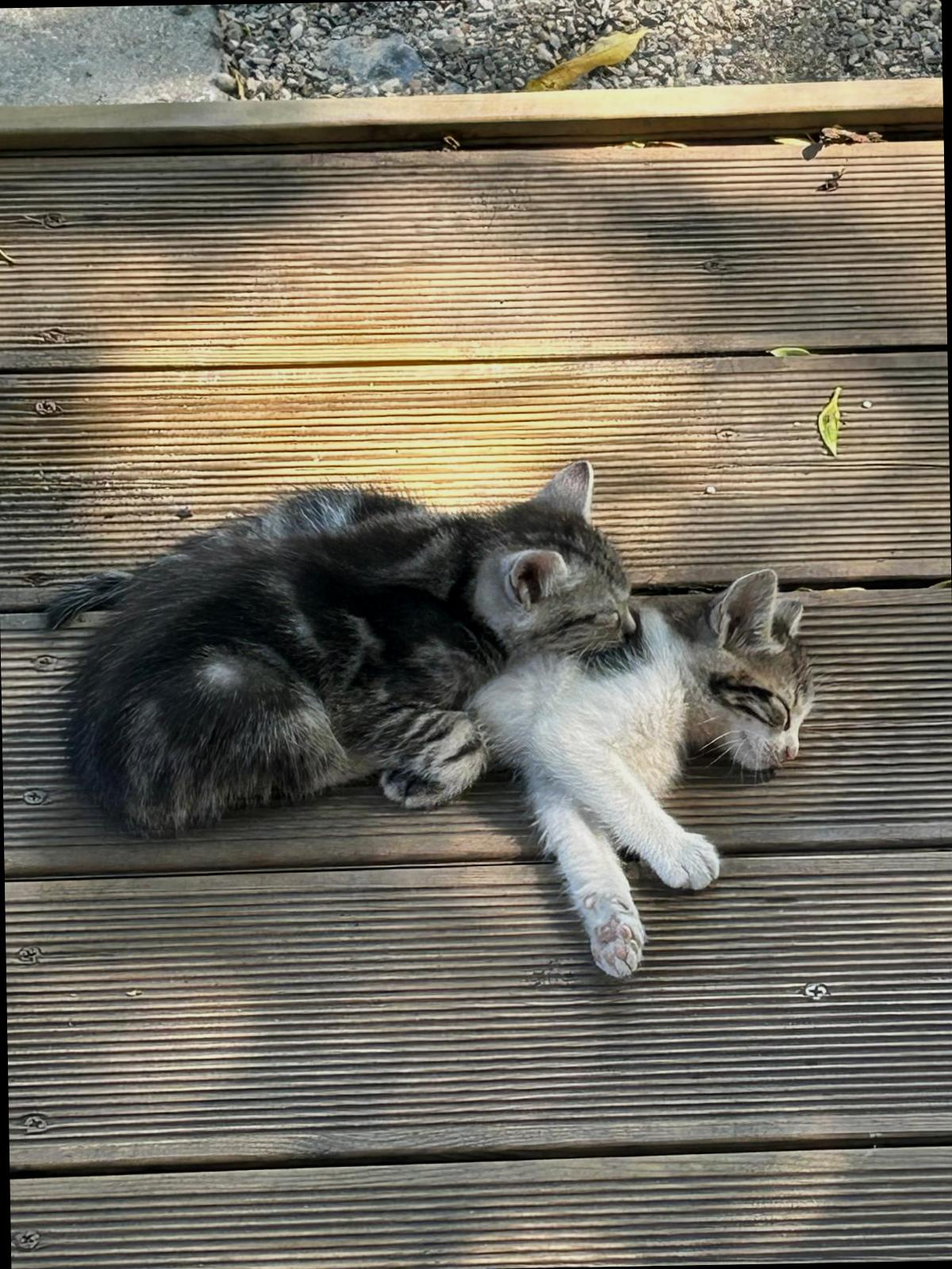macka: (39, 458, 642, 842), (470, 564, 822, 983)
